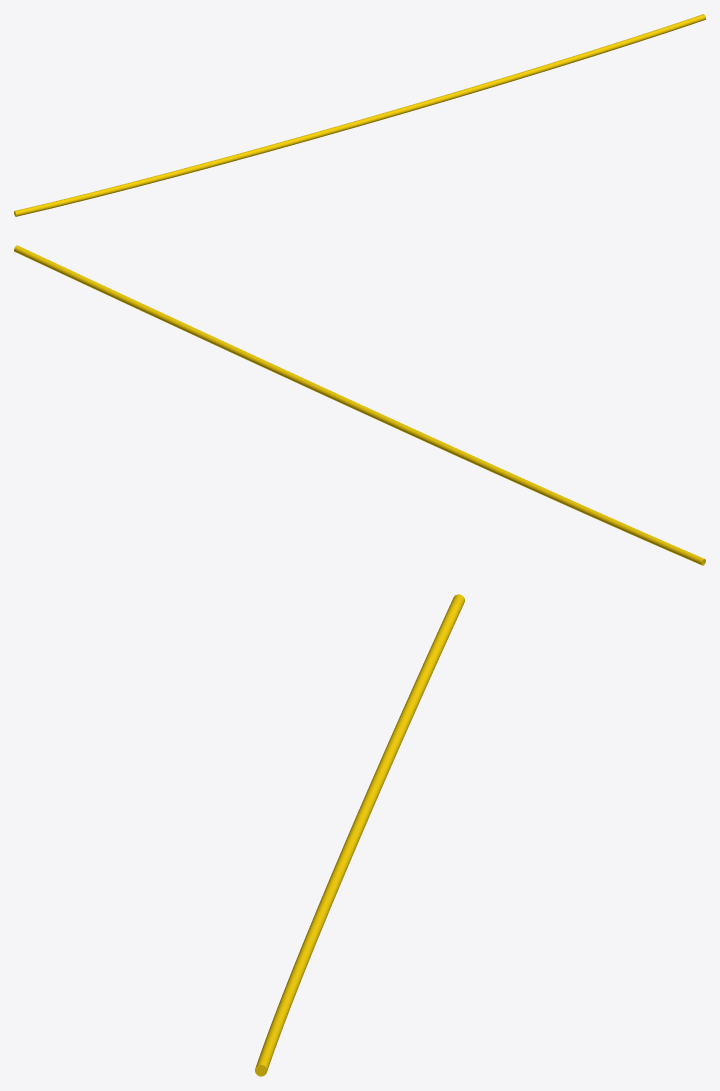
The model's file is Event_420107950_track_44.fbx.
3 views of the same model, one above another, from view 1: azimuth 30°, elevation 25°; view 2: azimuth 150°, elevation 25°; view 3: azimuth 270°, elevation 25° (orthographic). The views are drawn at different scales.
Visible parts, largest first — view 1: Model; view 2: Model; view 3: Model.
Boxes of the visible parts, bbox=[...] form: Model: bbox=[14, 14, 705, 216]; Model: bbox=[14, 245, 705, 565]; Model: bbox=[255, 594, 464, 1076].
Bounding box in the file's own units: 4.85 × 0.5967 × 0.6883.
